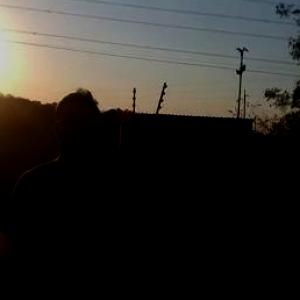follow: (1, 84, 134, 299)
